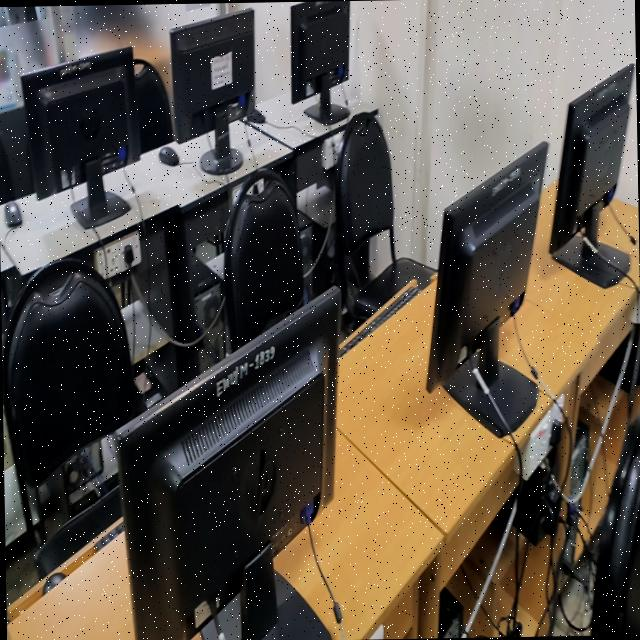Chair: (1, 257, 144, 578), (334, 112, 427, 324), (222, 167, 302, 351), (133, 58, 171, 151), (0, 138, 13, 203)
Cpu: (188, 240, 223, 369), (297, 212, 312, 302), (437, 588, 462, 638)
Monitor: (116, 291, 338, 640), (425, 142, 546, 434), (20, 46, 140, 226), (548, 63, 632, 287), (169, 8, 253, 174), (289, 0, 347, 123)
Mouse: (42, 571, 65, 594), (3, 200, 20, 227), (158, 145, 177, 165), (245, 107, 264, 122)
